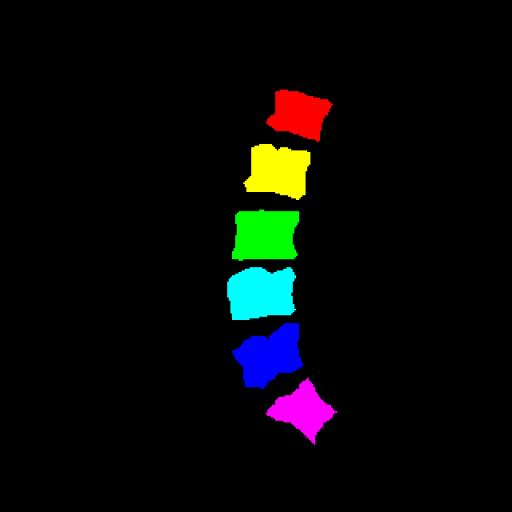L1: (266, 91, 332, 142)
L2: (244, 144, 310, 200)
L3: (232, 210, 299, 260)
L4: (227, 267, 295, 320)
L5: (233, 323, 303, 388)
S1: (266, 378, 336, 444)
